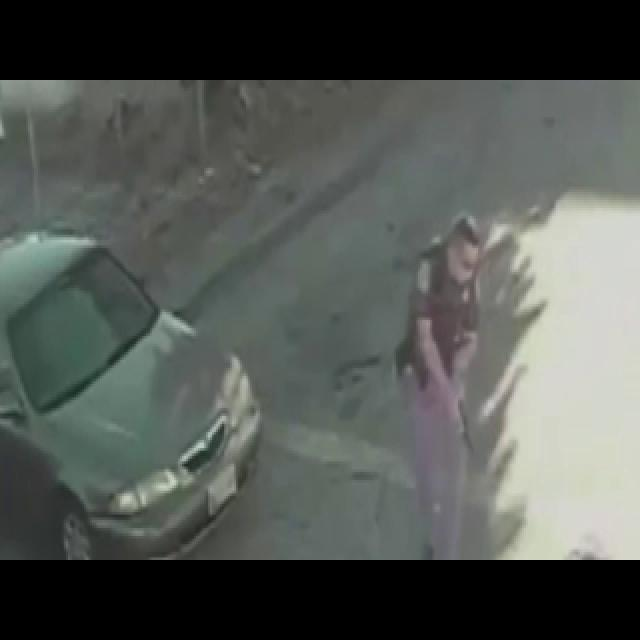shooting: (318, 32, 526, 561)
